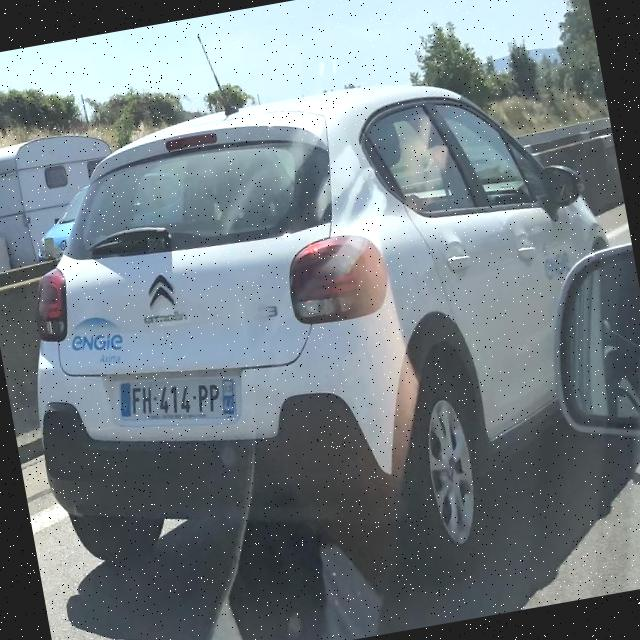EU: (112, 357, 243, 442)
France: (115, 381, 135, 418)
